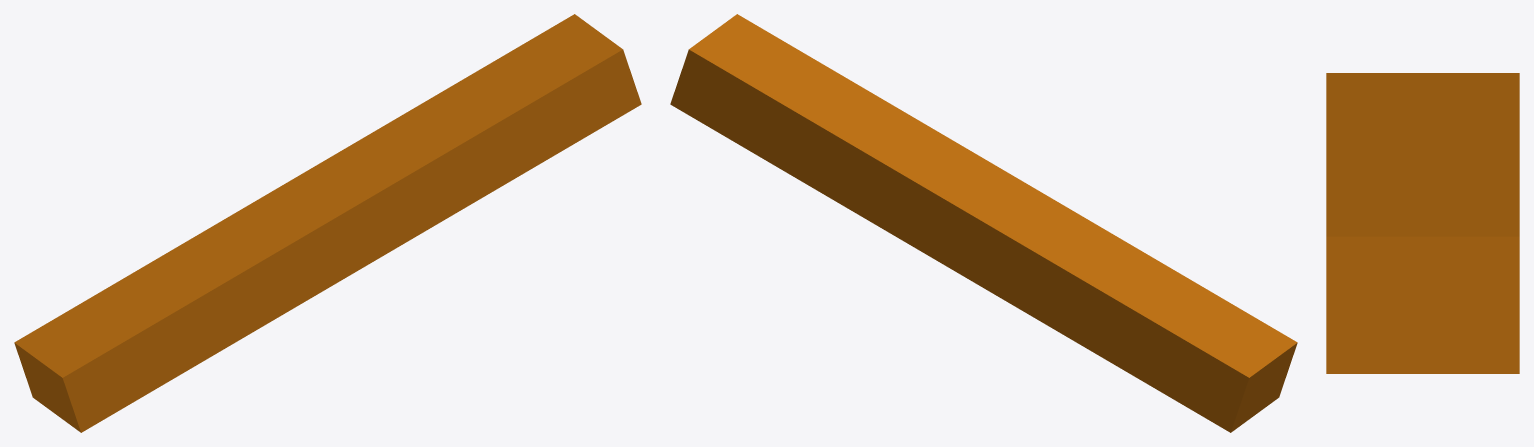
The model's file is Cockpit_Transport__Needle_AGL.obj.
3 renders of one model, left to right at view 1: azimuth 30°, elevation 25°; view 2: azimuth 150°, elevation 25°; view 3: azimuth 270°, elevation 25°, orthographic. The views are drawn at different scales.
Parts seen in each view (by area): view 1: AGL_needle; view 2: AGL_needle; view 3: AGL_needle.
Part boxes in pixels (x1,y1,x2,y2): AGL_needle: (14,14,641,432); AGL_needle: (670,14,1297,432); AGL_needle: (1326,73,1519,373).
Bounding box in the file's own units: 0.0484 × 0.0201 × 0.007.
